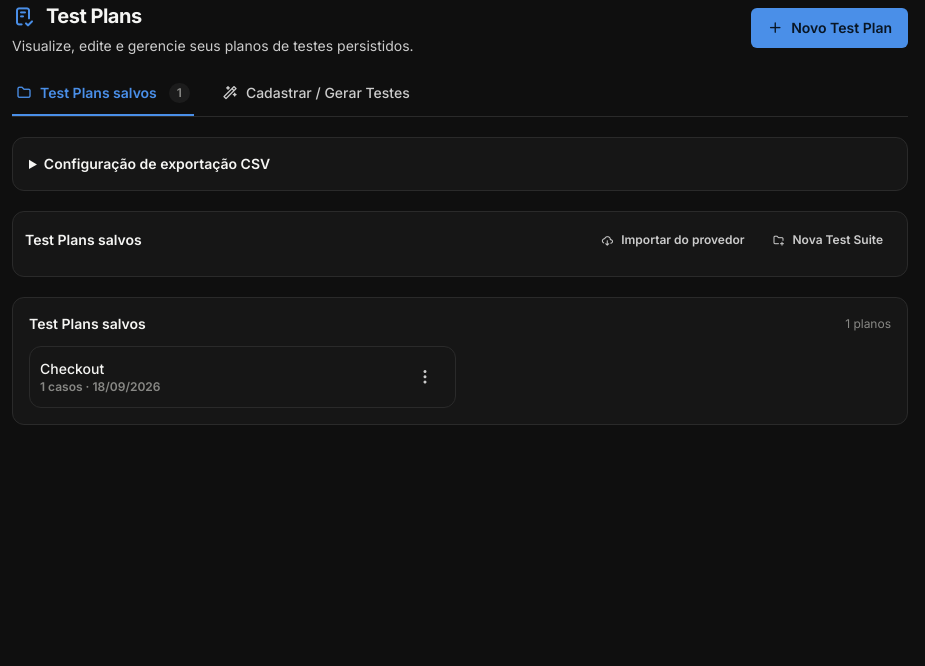
Test case: TestPlansView saving a plan › reports a save failure that carries no message
This screenshot has width=925, height=666.
Click the button with aria-label "Abrir Test Plan Checkout": {"x": 72, "y": 368} top-left (40, 359), bottom-right (405, 395)
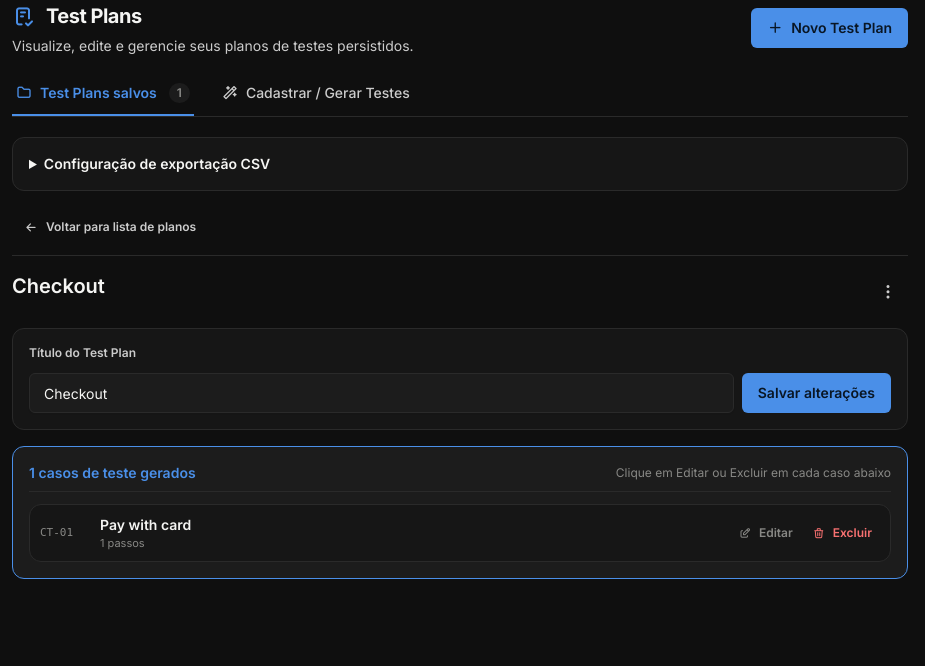
Click the button with test id "btn-save-plan-changes": {"x": 816, "y": 393} top-left (742, 373), bottom-right (891, 413)
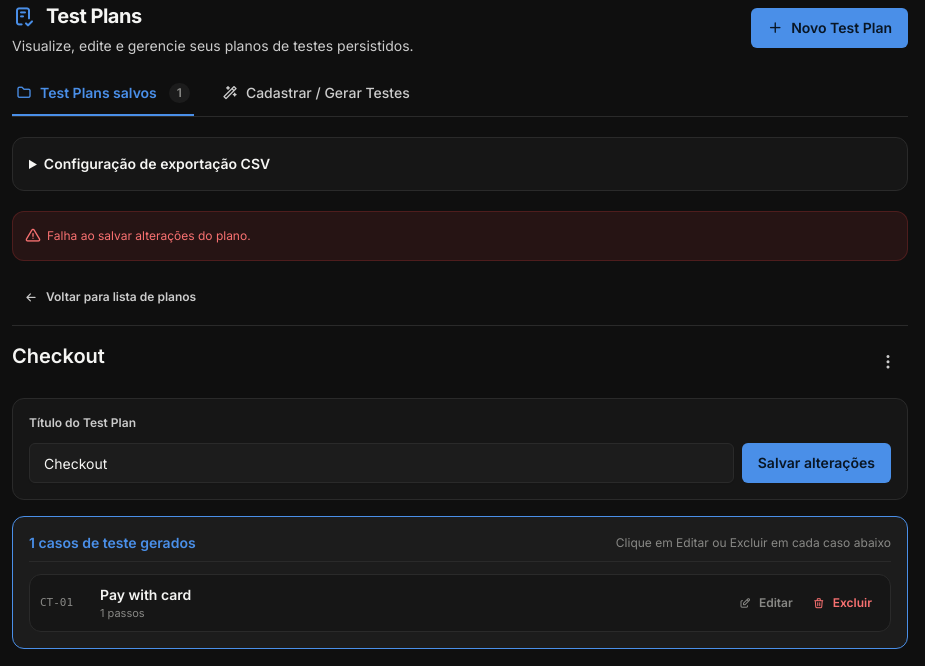
Check: the message reads "Falha ao salvar alterações do plano.", box top-left (47, 228), bottom-right (251, 243)
